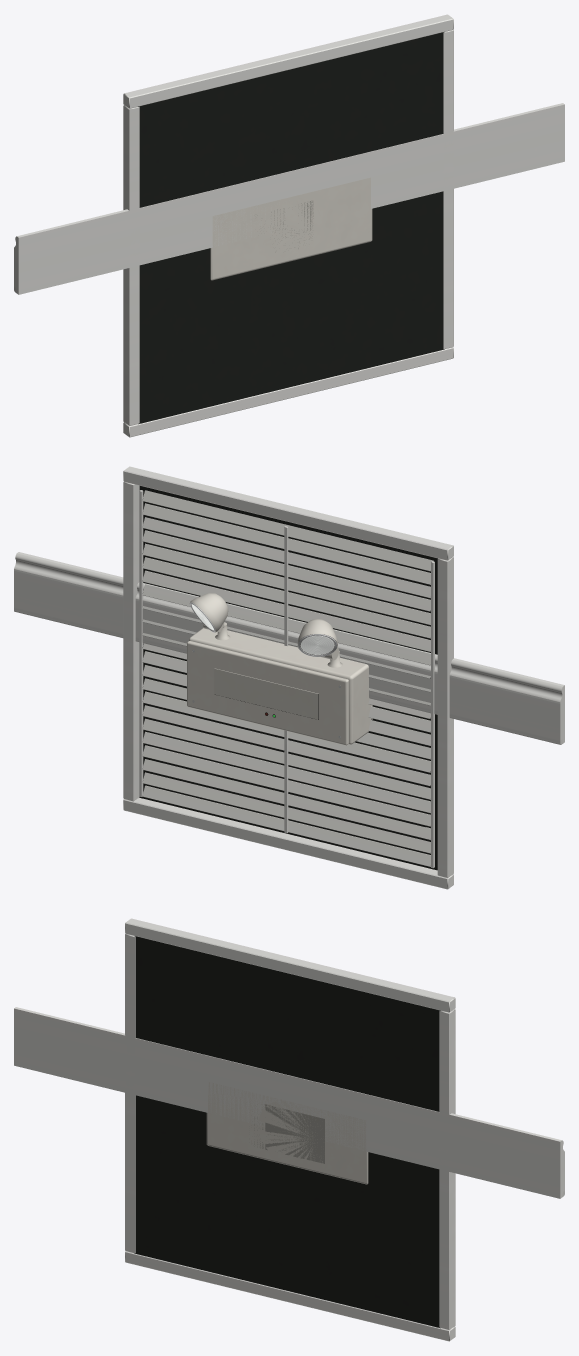
The model's file is office_trim_kit.glb.
3 views of the same model, one above another, from view 1: azimuth 30°, elevation 25°; view 2: azimuth 150°, elevation 25°; view 3: azimuth 330°, elevation 25° (orthographic).
Visible parts, largest first — view 1: vent_600, skirting_1m, emergency_light; view 2: vent_600, skirting_1m, emergency_light; view 3: vent_600, skirting_1m, emergency_light, smoke_detector, outlet_double, light_switch.
Part boxes in pixels (x1=…): vent_600: x1=123, y1=14, x2=453, y2=437; skirting_1m: x1=14, y1=103, x2=564, y2=294; emergency_light: x1=210, y1=177, x2=372, y2=280; vent_600: x1=123, y1=466, x2=453, y2=889; skirting_1m: x1=14, y1=552, x2=564, y2=744; emergency_light: x1=187, y1=593, x2=372, y2=745; vent_600: x1=125, y1=918, x2=455, y2=1341; skirting_1m: x1=14, y1=1007, x2=564, y2=1198; emergency_light: x1=206, y1=1082, x2=368, y2=1184; smoke_detector: x1=258, y1=1101, x2=314, y2=1163; outlet_double: x1=254, y1=1104, x2=324, y2=1163; light_switch: x1=265, y1=1104, x2=308, y2=1159.
Size of the model in its own units: 1 by 0.595 by 0.1211.
5 materials, 5 textured.
